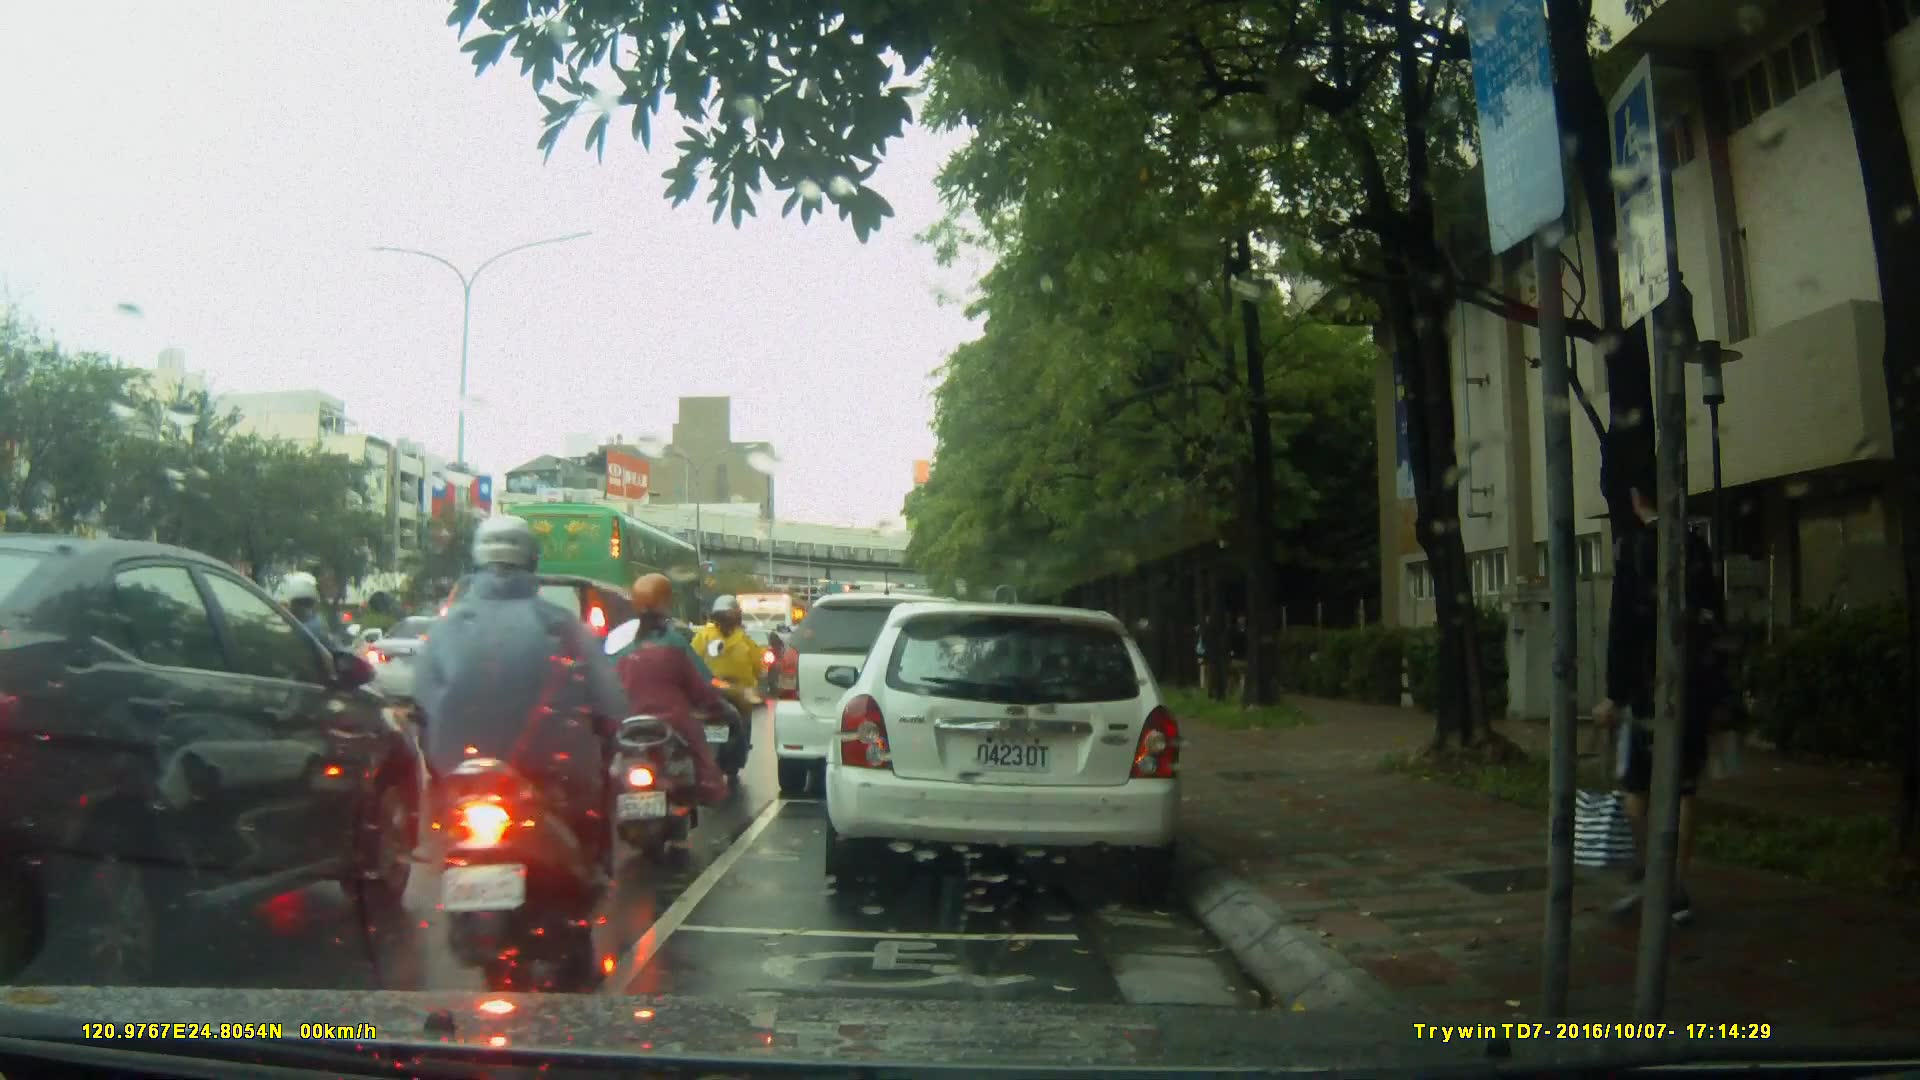pedestrian: (1551, 450, 1734, 937)
rider: (382, 509, 626, 986), (597, 575, 703, 865), (264, 576, 372, 789), (689, 593, 773, 780)
vehicle: (9, 531, 429, 988), (831, 592, 1196, 897), (416, 569, 677, 790), (770, 592, 999, 800), (493, 500, 705, 658)
